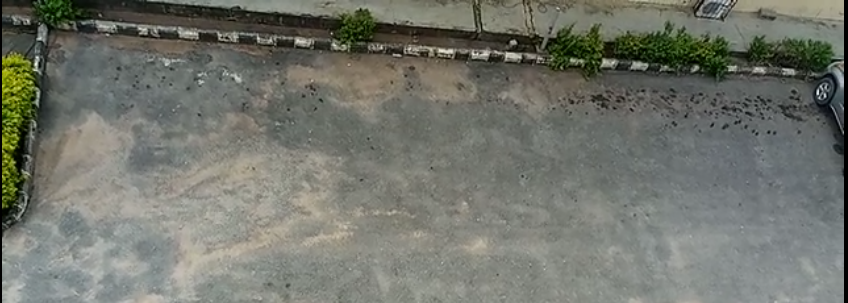four: (613, 34, 743, 252)
one: (17, 1, 179, 228)
three: (428, 28, 540, 245)
two: (239, 9, 378, 239)
